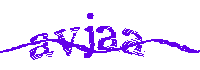a: (120, 27, 147, 59), (29, 32, 50, 60), (96, 25, 117, 52)
j: (82, 13, 99, 64)
v: (53, 26, 81, 58)
